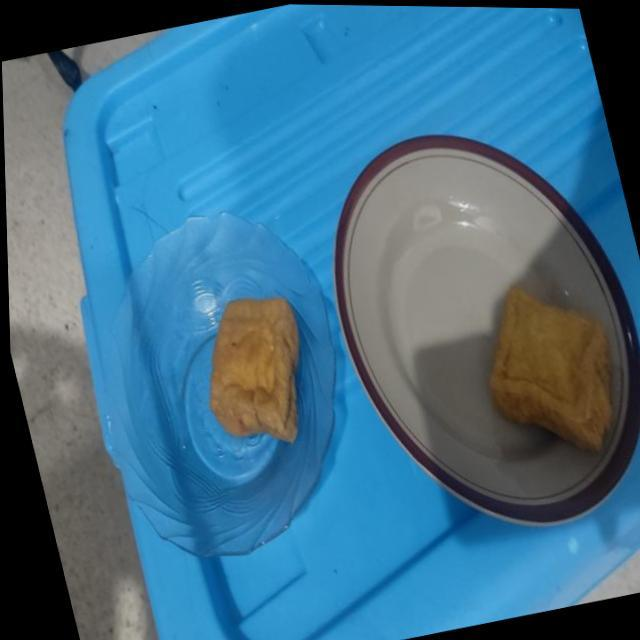tahu_goreng: (490, 284, 611, 450), (209, 297, 299, 442)
